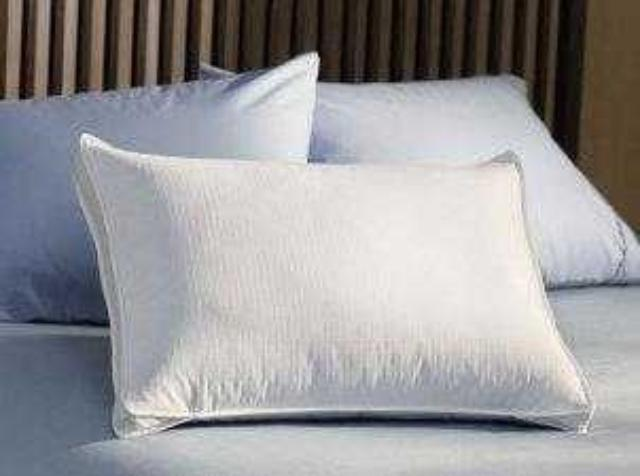pillow: (70, 131, 596, 438), (0, 49, 320, 324)
